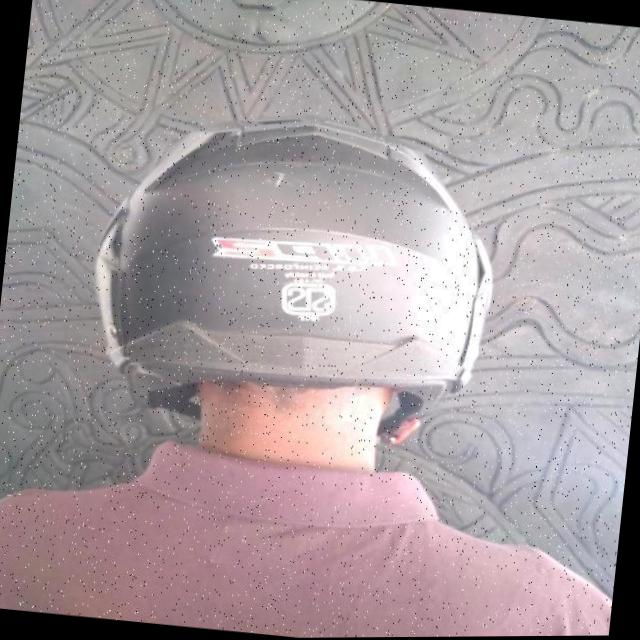helmet: (78, 100, 510, 457)
